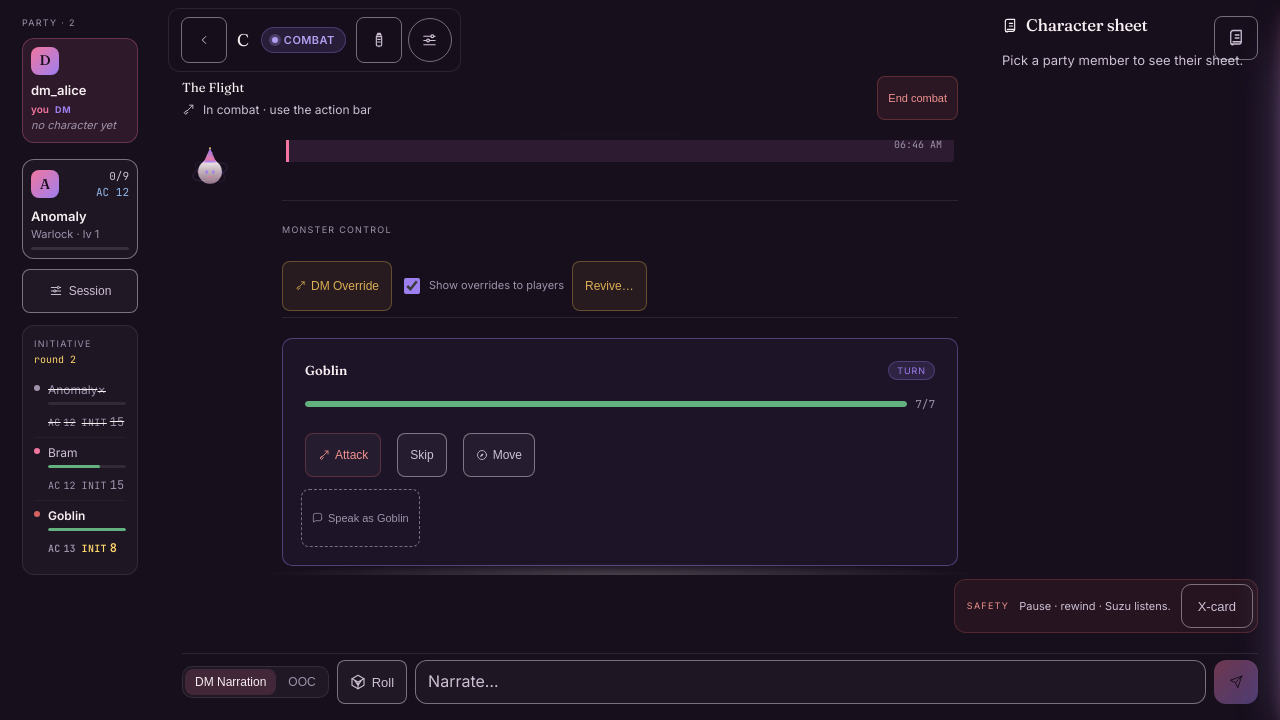
Scenario: P4 focus never lands on <body> › an override dialog is open on Attack and another tab holds the fight: focus moves to the dialog's Revive radio, not behind the modal
This screenshot has width=1280, height=720.
(page scrolled)
Expected: the text "In combat · use the action bar" is shown, [182, 102, 372, 116]
Click the button with aria-label "Open DM override modal" at [337, 286], box [282, 260, 392, 310]
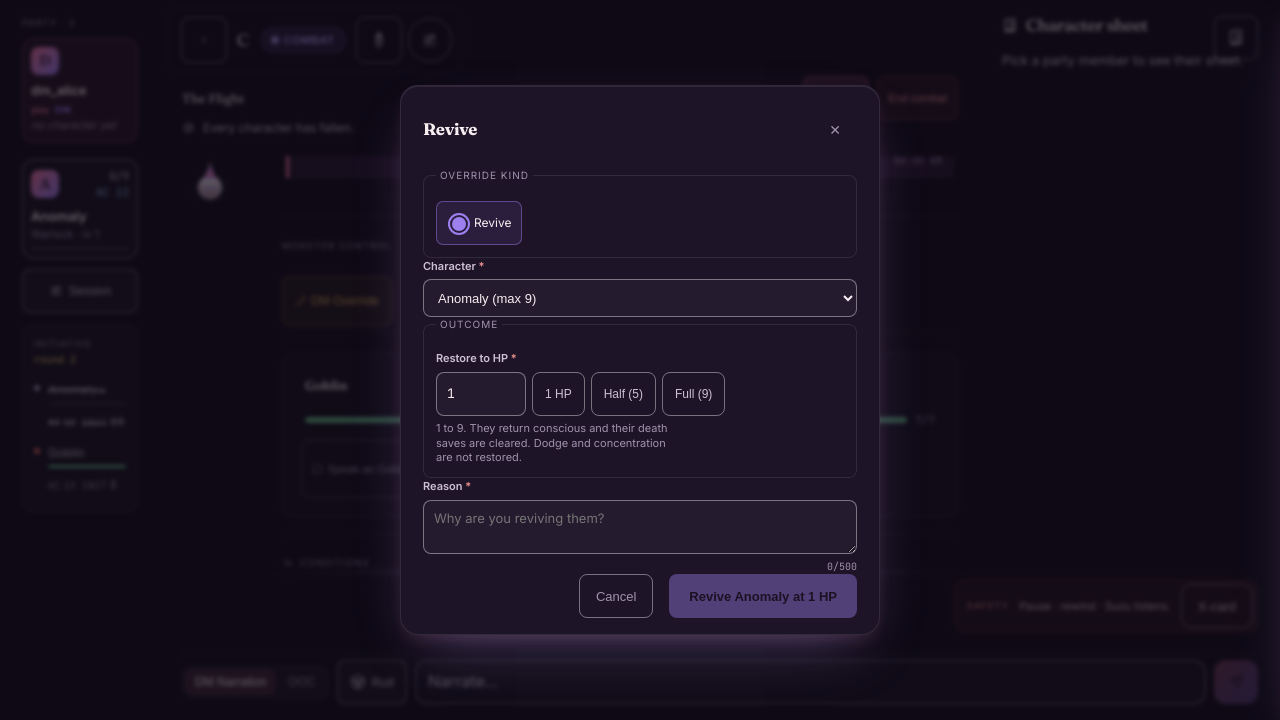
Now the number of radio buttons is 1, box [452, 217, 466, 231]
